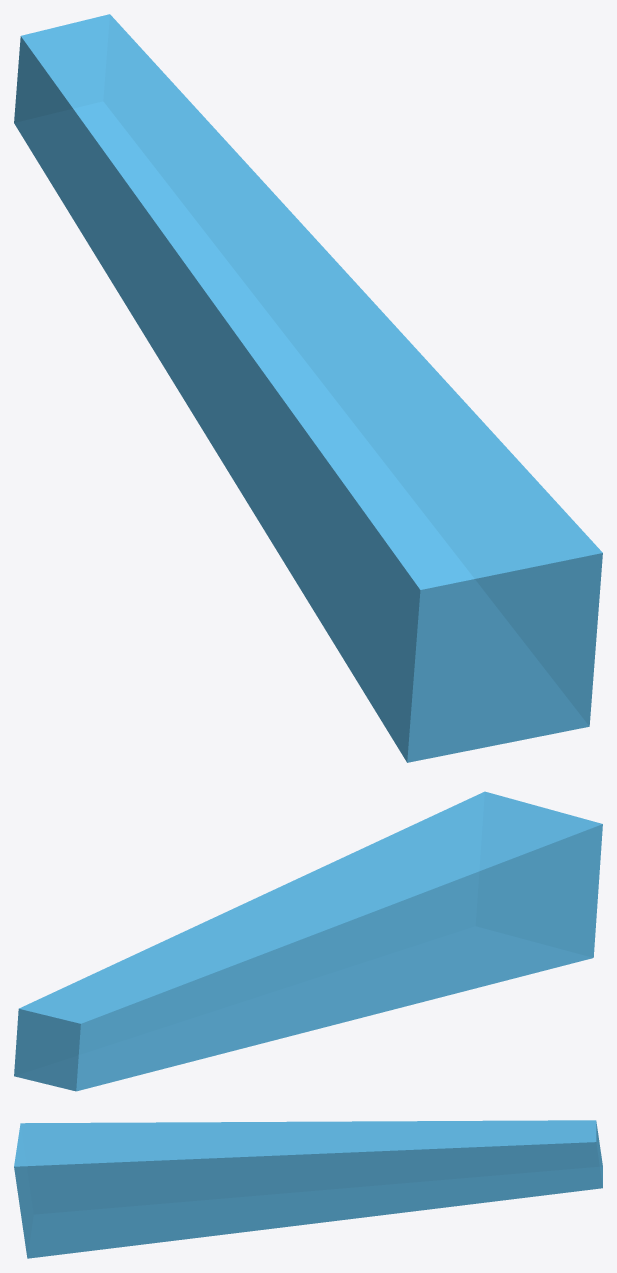
The model's file is Event_421115418_HBrechit_5.fbx.
3 renders of one model, top to bottom at view 1: azimuth 30°, elevation 25°; view 2: azimuth 150°, elevation 25°; view 3: azimuth 270°, elevation 25°, orthographic. The views are drawn at different scales.
Parts seen in each view (by area): view 1: Model; view 2: Model; view 3: Model.
Part boxes in pixels (x1,y1,x2,y2): Model: (14,14,602,762); Model: (14,791,602,1091); Model: (14,1120,602,1258).
Bounding box in the file's own units: 1.19 × 1.19 × 4.6.
